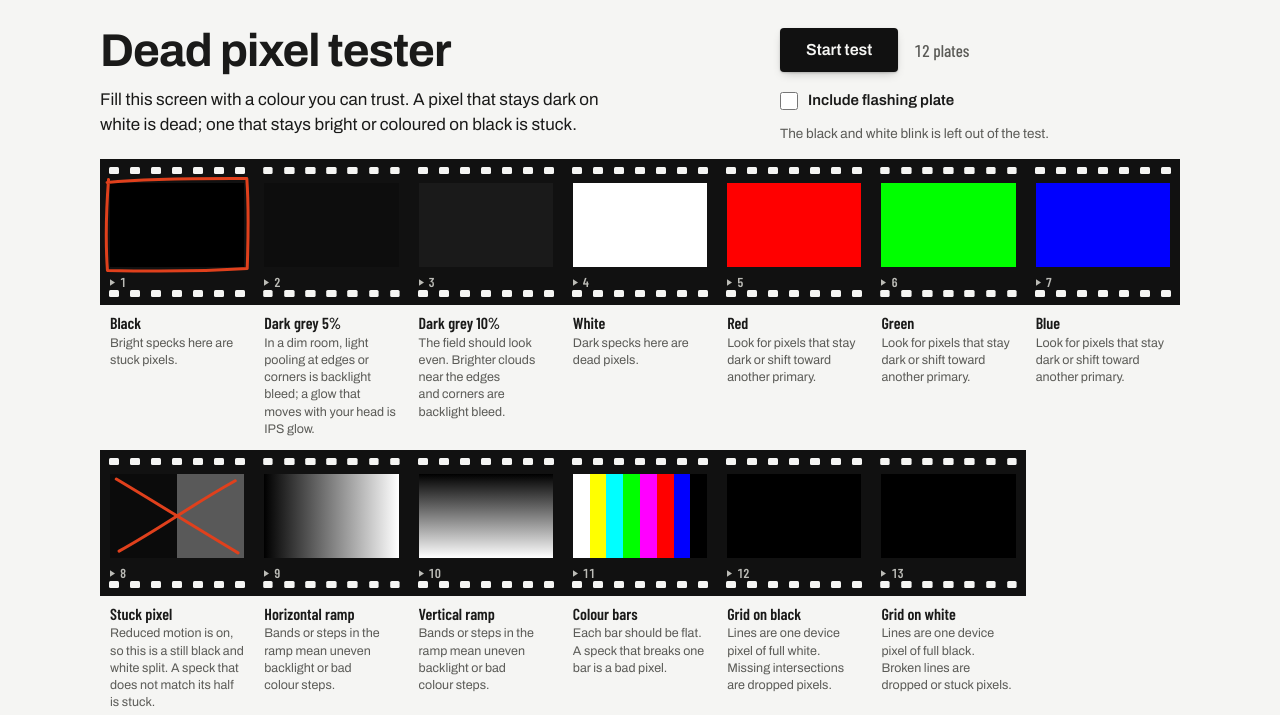
reduced motion › follows a preference change until the visitor picks
The image size is (1280, 715).
Later steps or results of the test are not shown.
Click the checkbox labelled "Include flashing plate": (789, 101) [780,92,798,110]
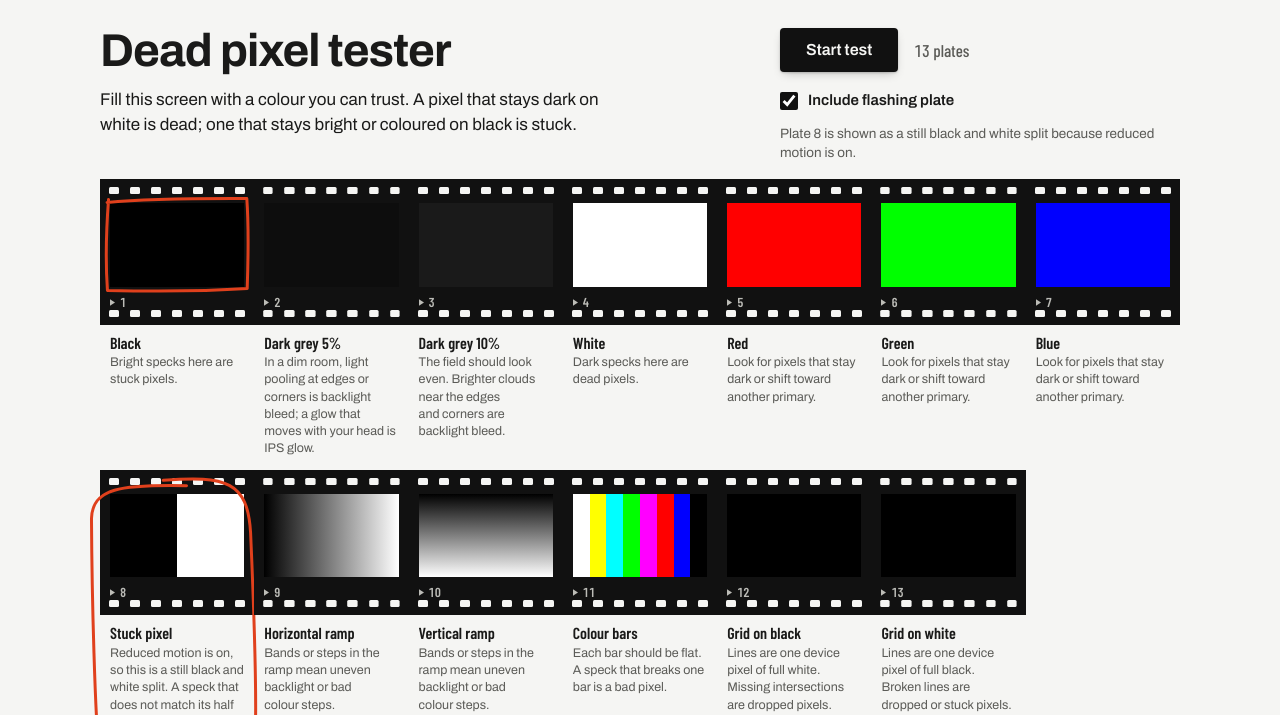
Now the checkbox labelled "Include flashing plate" is checked, box [780,92,798,110]
